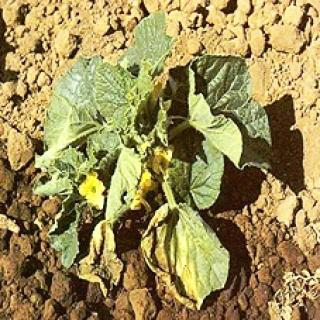wilt: (141, 204, 216, 290), (83, 230, 131, 302)
